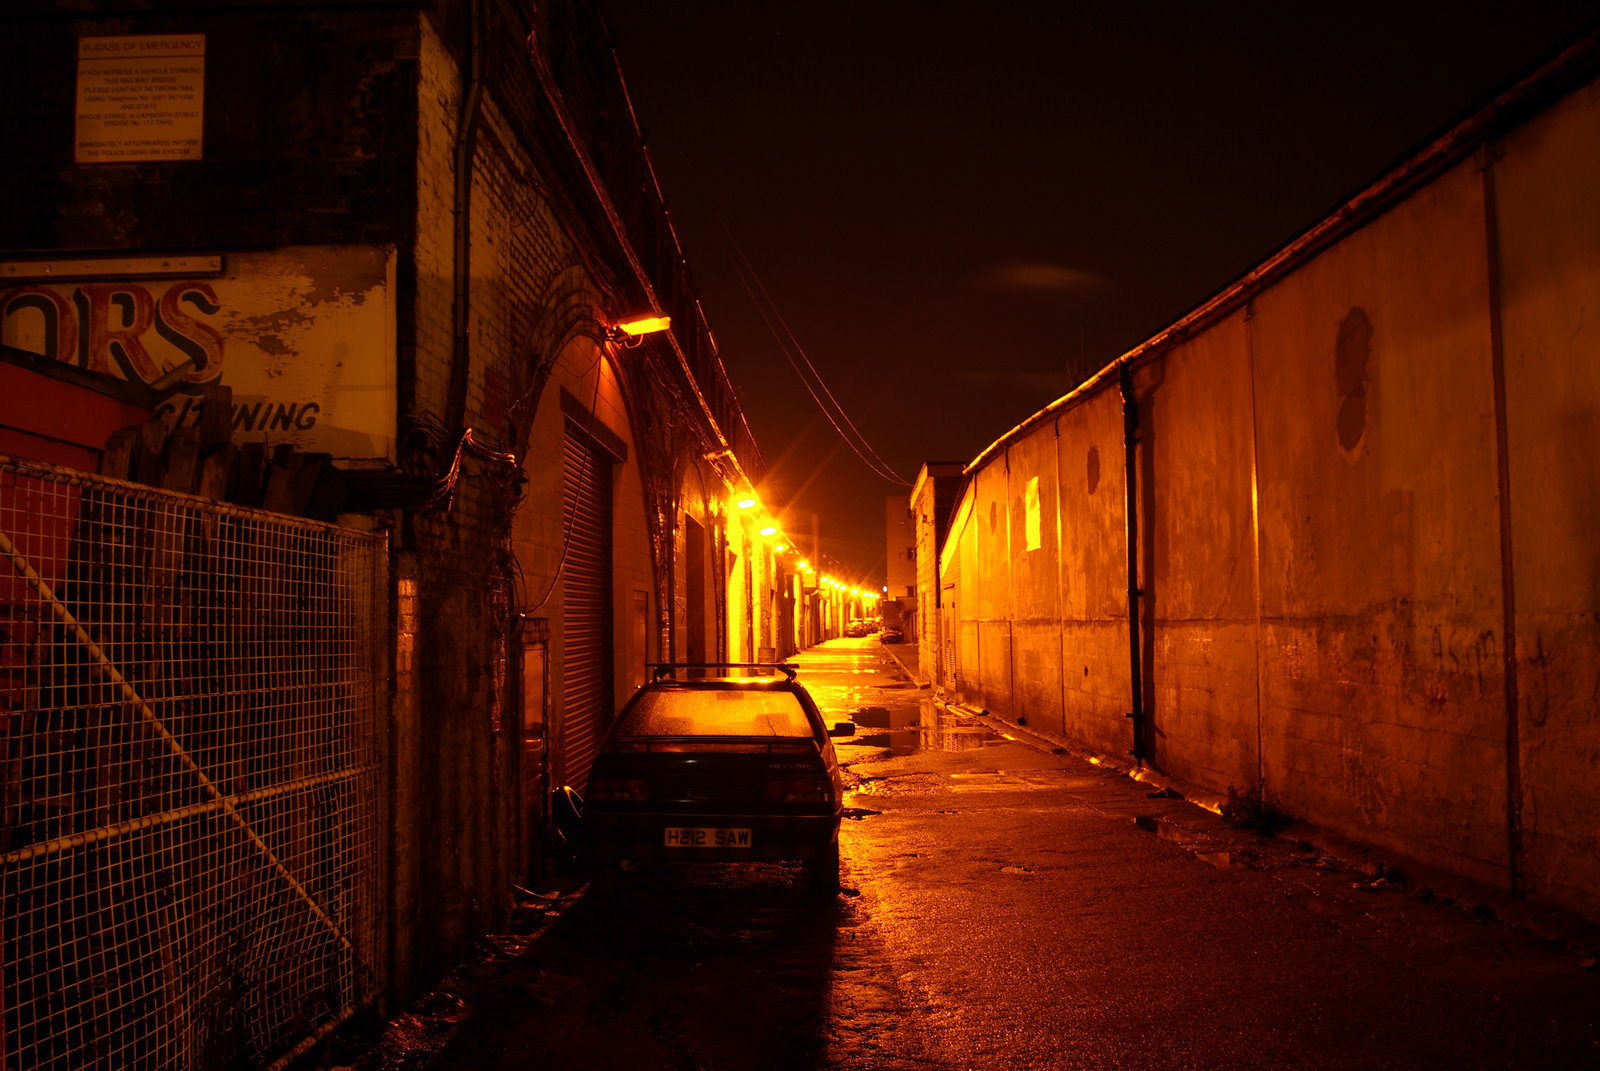car: (570, 645, 862, 914)
